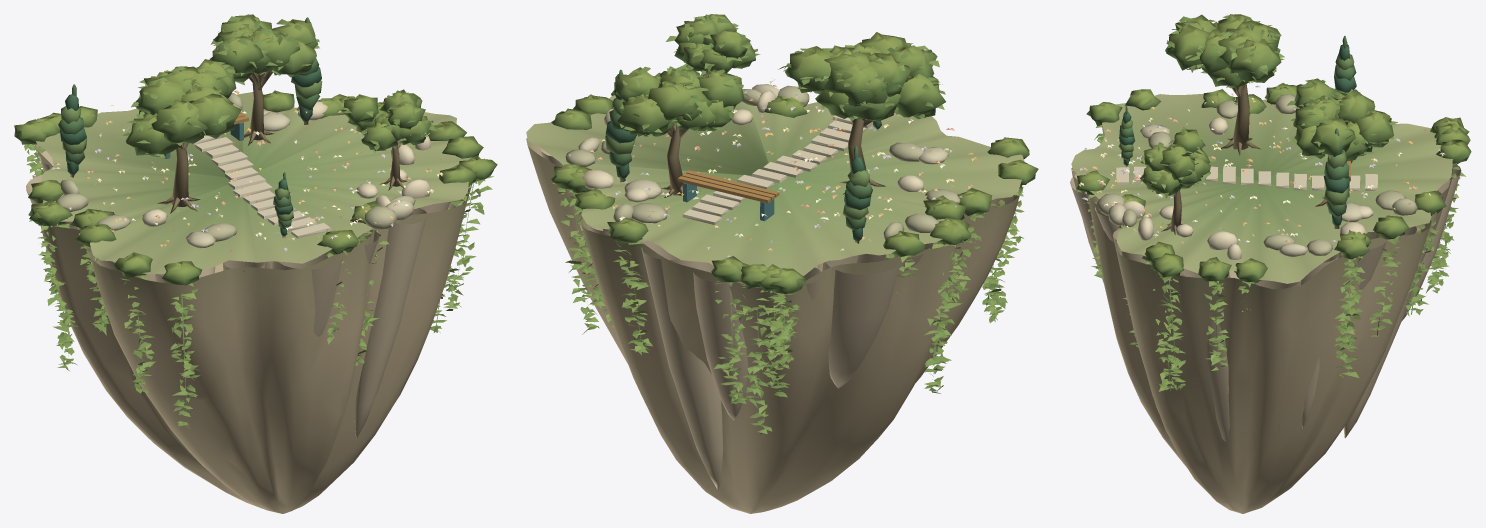
File: orchard-distant.glb
3 views of the same model, side by side, from view 1: azimuth 30°, elevation 25°; view 2: azimuth 150°, elevation 25°; view 3: azimuth 270°, elevation 25° (orthographic). The views are drawn at different scales.
Parts seen in each view (by area): view 1: orchard_fixed_Warm limestone_distant, orchard_fixed_Garden foliage_distant, orchard_fixed_Oiled cedar_distant, orchard_fixed_Flower petals_distant; view 2: orchard_fixed_Garden foliage_distant, orchard_fixed_Warm limestone_distant, orchard_fixed_Oiled cedar_distant, orchard_fixed_Flower petals_distant; view 3: orchard_fixed_Garden foliage_distant, orchard_fixed_Warm limestone_distant, orchard_fixed_Flower petals_distant, orchard_fixed_Oiled cedar_distant.
Boxes of the visible parts, x1=… form: orchard_fixed_Warm limestone_distant: x1=26, y1=93, x2=472, y2=513; orchard_fixed_Garden foliage_distant: x1=14, y1=14, x2=497, y2=428; orchard_fixed_Oiled cedar_distant: x1=70, y1=71, x2=407, y2=237; orchard_fixed_Flower petals_distant: x1=48, y1=90, x2=443, y2=251; orchard_fixed_Garden foliage_distant: x1=526, y1=14, x2=1038, y2=434; orchard_fixed_Warm limestone_distant: x1=526, y1=84, x2=1022, y2=513; orchard_fixed_Oiled cedar_distant: x1=620, y1=72, x2=885, y2=243; orchard_fixed_Flower petals_distant: x1=568, y1=75, x2=977, y2=257; orchard_fixed_Garden foliage_distant: x1=1071, y1=14, x2=1471, y2=391; orchard_fixed_Warm limestone_distant: x1=1070, y1=93, x2=1461, y2=513; orchard_fixed_Flower petals_distant: x1=1071, y1=85, x2=1445, y2=243; orchard_fixed_Oiled cedar_distant: x1=1125, y1=84, x2=1350, y2=234.
Size of the model in its own units: 11.47 by 12.08 by 10.
